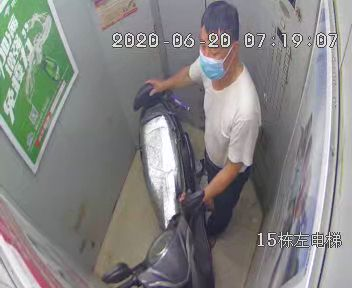Electric-bicycle: (102, 83, 206, 288)
